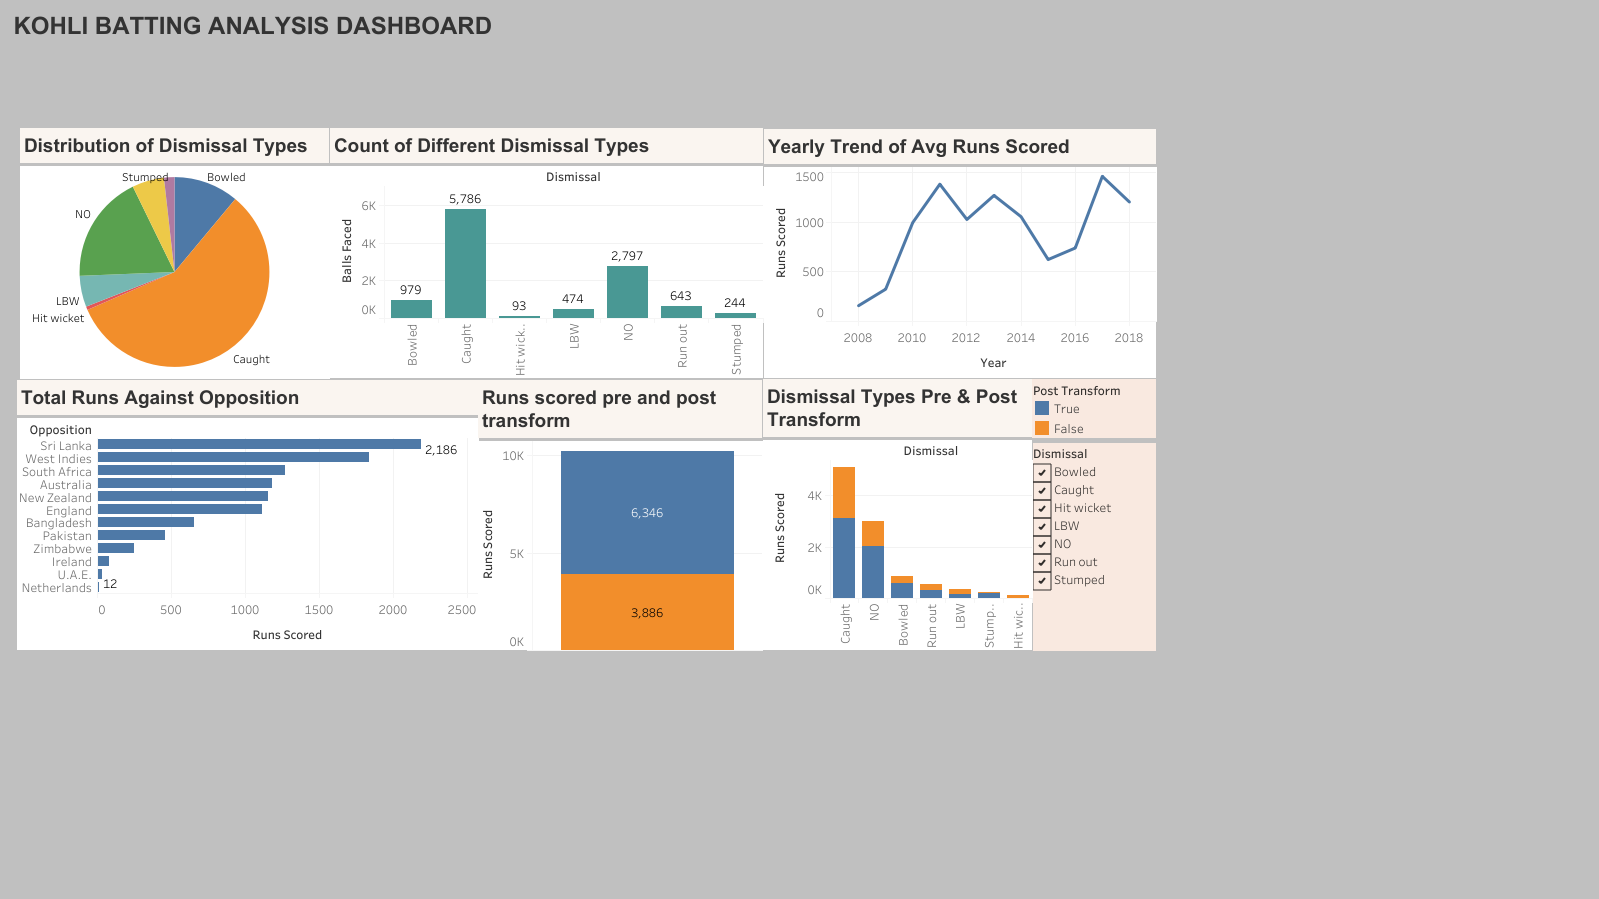

This screenshot's page, from the dashboard's own definition file:
{"tool":"tableau","page":{"name":"Dashboard 1","canvas":[1600,900],"ordinal":0},"visuals":[{"type":"title","box":[12,12,1576,35]},{"type":"worksheet","title":"Sheet 1","mark":"Pie","box":[20,128,309,250]},{"type":"worksheet","title":"Sheet 2","mark":"Automatic","rows":["BallsFaced"],"cols":["Dismissal"],"box":[330,128,433,250]},{"type":"worksheet","title":"Sheet 6","mark":"Automatic","rows":["RunsScored"],"cols":["Year"],"box":[764,129,392,249]},{"type":"worksheet","title":"Sheet 5","mark":"Automatic","rows":["RunsScored"],"cols":["Dismissal"],"box":[763,379,269,272]},{"type":"legend","title":"Sheet 4","param":"[federated.0j0k64t0nhjfiy17eojmo1trjekn].[none:post_transform:nk]","box":[1032,379,124,64]},{"type":"worksheet","title":"Sheet 3","mark":"Automatic","rows":["Opposition"],"cols":["RunsScored"],"box":[17,380,461,270]},{"type":"worksheet","title":"Sheet 4","mark":"Automatic","rows":["RunsScored"],"box":[478,380,284,270]},{"type":"filter","title":"Sheet 2","param":"[federated.0j0k64t0nhjfiy17eojmo1trjekn].[none:Dismissal:nk]","box":[1033,443,123,208]}]}

Visuals, with their boxes in screenshot pixels (x1, y1, x2, y2), scaled from the page's 1600x900 canvas onto the 1599x899 screenshot:
title: [12, 12, 1587, 47]
"Sheet 1" worksheet (Pie marks): [20, 128, 329, 378]
"Sheet 2" worksheet: [330, 128, 763, 378]
"Sheet 6" worksheet: [764, 129, 1155, 378]
"Sheet 5" worksheet: [763, 379, 1031, 650]
"Sheet 4" legend: [1031, 379, 1155, 443]
"Sheet 3" worksheet: [17, 380, 478, 649]
"Sheet 4" worksheet: [478, 380, 762, 649]
"Sheet 2" filter: [1032, 443, 1155, 650]
